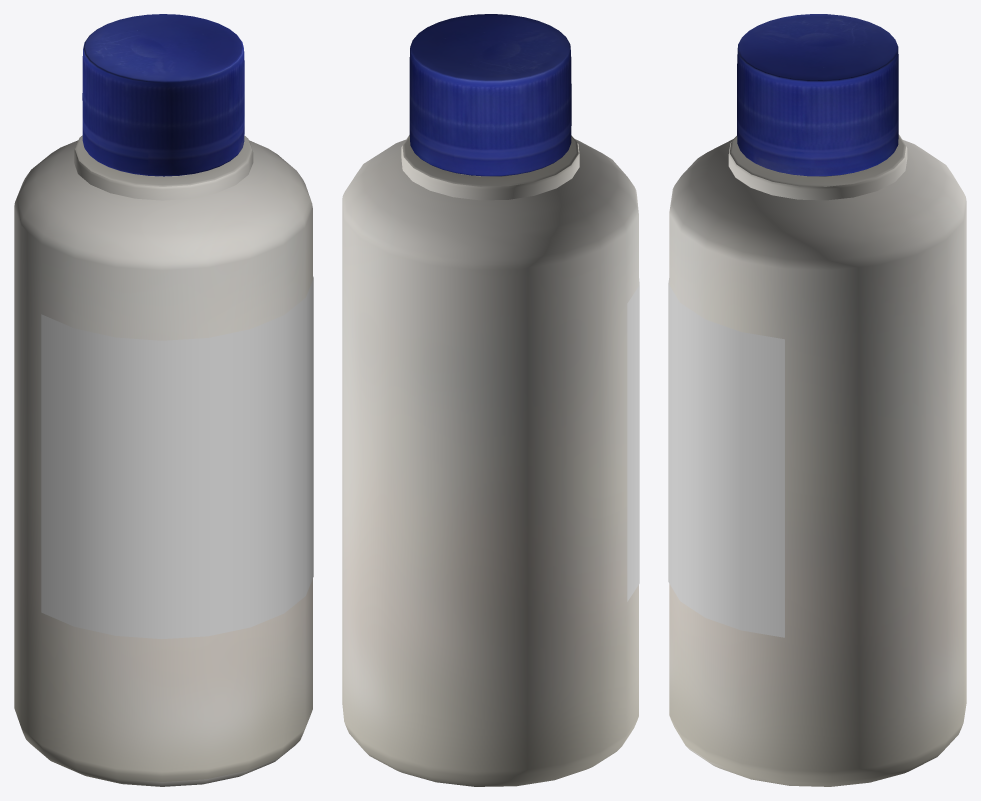
File: alcohol.obj
3 views of the same model, side by side, from view 1: azimuth 30°, elevation 25°; view 2: azimuth 150°, elevation 25°; view 3: azimuth 270°, elevation 25° (orthographic).
Parts seen in each view (by area): view 1: polySurface1, polySurface2, pCylinder2; view 2: polySurface1, pCylinder2, polySurface2; view 3: polySurface1, polySurface2, pCylinder2.
Part boxes in pixels (box(x1,y1,x2,y2)): polySurface1: box(14, 135, 312, 786); polySurface2: box(41, 276, 313, 638); pCylinder2: box(82, 14, 244, 176); polySurface1: box(342, 135, 638, 786); pCylinder2: box(409, 14, 571, 176); polySurface2: box(627, 278, 639, 601); polySurface1: box(669, 134, 966, 786); polySurface2: box(668, 278, 784, 637); pCylinder2: box(737, 14, 898, 176).
Size of the model in its own units: 23.73 by 60.71 by 23.73.
